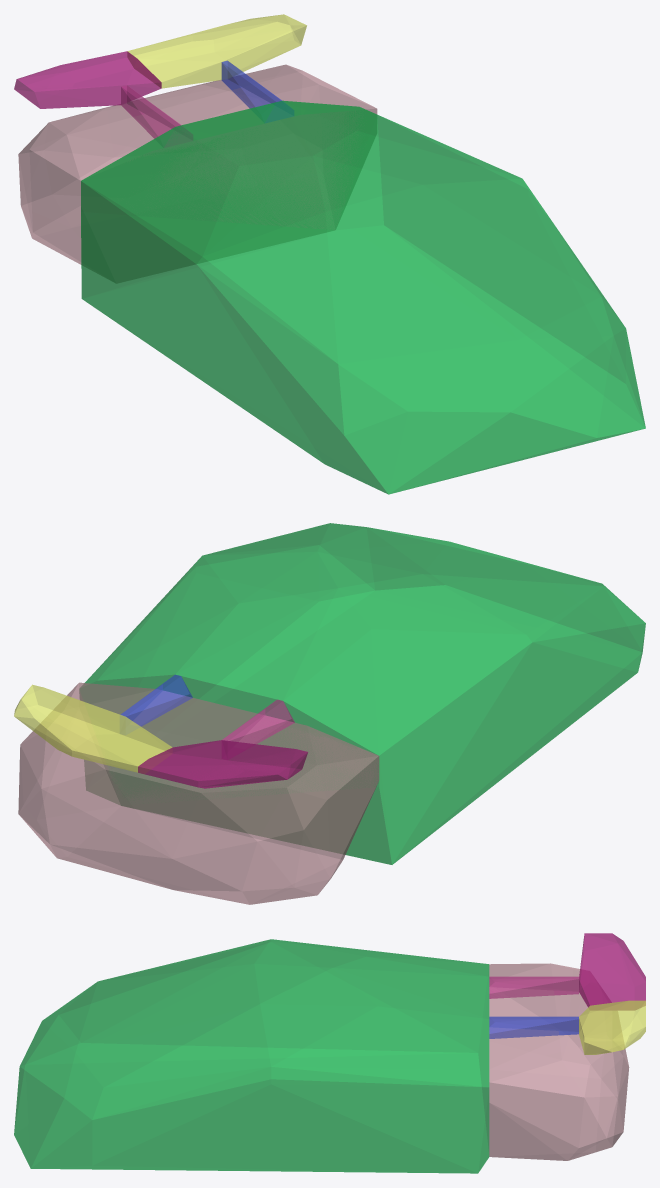
File: Car_Body_Convex_Hull.obj
3 views of the same model, one above another, from view 1: azimuth 30°, elevation 25°; view 2: azimuth 150°, elevation 25°; view 3: azimuth 270°, elevation 25° (orthographic). The views are drawn at different scales.
Parts seen in each view (by area): view 1: Body_hull_2, Body_hull_3, Body_hull_6, Body_hull_4, Body_hull_5, Body_hull_7; view 2: Body_hull_2, Body_hull_3, Body_hull_6, Body_hull_4, Body_hull_7, Body_hull_5; view 3: Body_hull_2, Body_hull_3, Body_hull_4, Body_hull_6, Body_hull_7, Body_hull_5.
Part boxes in pixels (box(x1,y1,x2,y2)): Body_hull_2: box(81, 100, 645, 494); Body_hull_3: box(18, 64, 377, 282); Body_hull_6: box(127, 14, 306, 88); Body_hull_4: box(14, 51, 161, 108); Body_hull_5: box(121, 85, 192, 147); Body_hull_7: box(221, 60, 293, 122); Body_hull_2: box(79, 523, 645, 864); Body_hull_3: box(18, 682, 379, 904); Body_hull_6: box(14, 684, 172, 773); Body_hull_4: box(138, 740, 307, 788); Body_hull_7: box(120, 674, 192, 734); Body_hull_5: box(222, 699, 294, 759); Body_hull_2: box(14, 939, 489, 1173); Body_hull_3: box(489, 963, 629, 1160); Body_hull_4: box(579, 933, 645, 1009); Body_hull_6: box(579, 1000, 645, 1054); Body_hull_7: box(489, 1016, 578, 1038); Body_hull_5: box(489, 976, 578, 998).
Size of the model in its own units: 19.09 by 9.55 by 38.53.
